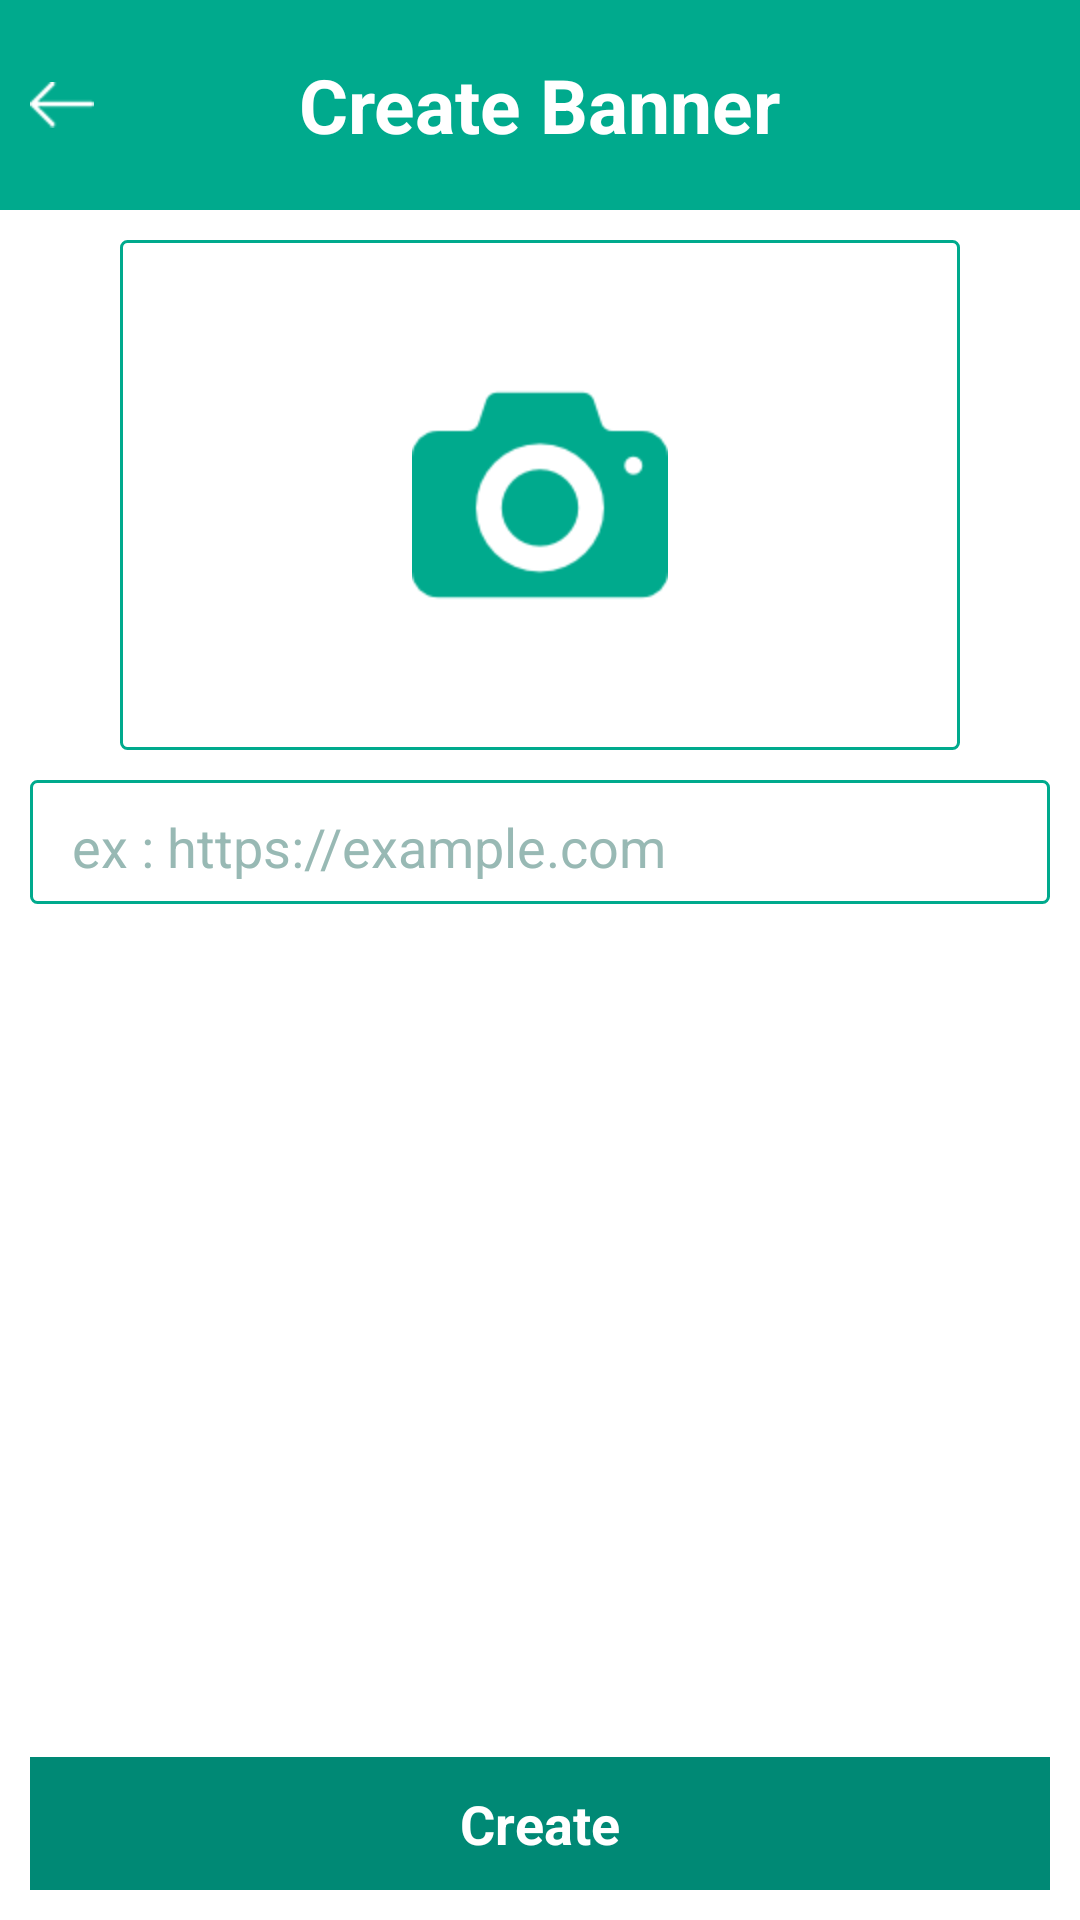

Icon bounding boxes for this 1080w x 1920h phone screenshot, format (x1, y1, x2, y2):
back: (30, 82, 94, 128)
camera: (412, 391, 668, 599)
